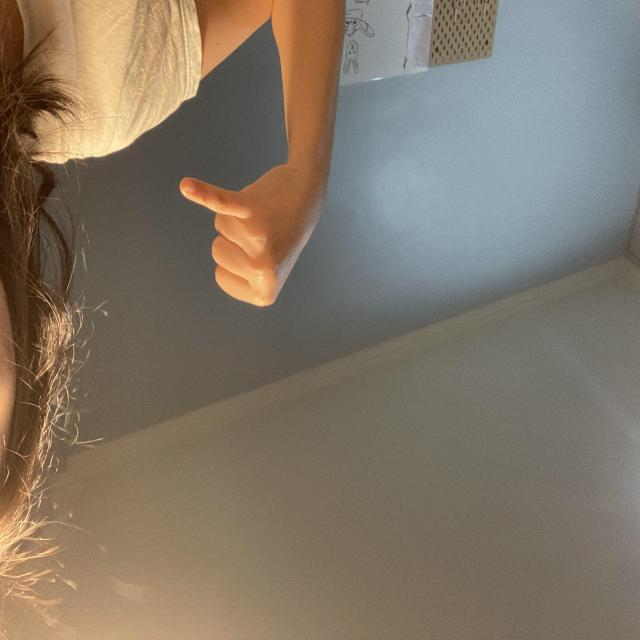J: (315, 333, 461, 477)
